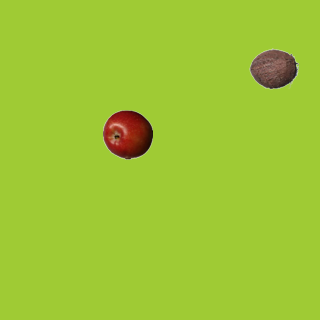Apple Braeburn: (102, 109, 152, 159)
Cocos: (248, 43, 298, 93)
